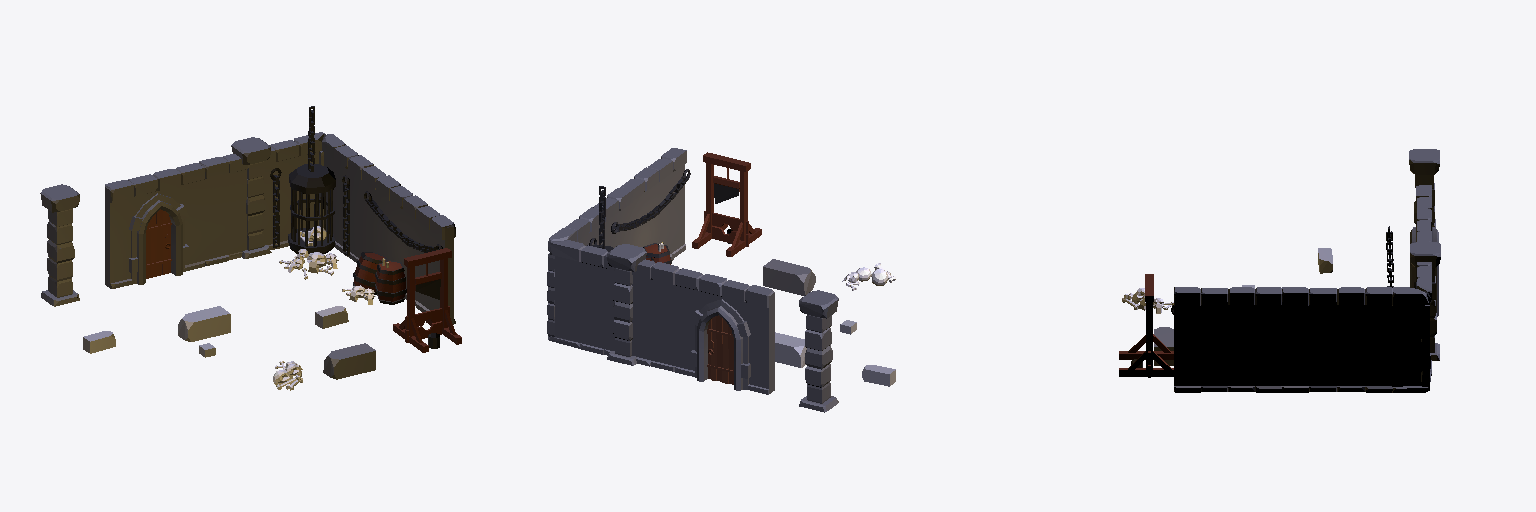
3 renders of one model, left to right at view 1: azimuth 30°, elevation 25°; view 2: azimuth 150°, elevation 25°; view 3: azimuth 270°, elevation 25°, orthographic.
Parts seen in each view (by area): view 1: Wall5_Untitled.020; view 2: Wall5_Untitled.020; view 3: Wall5_Untitled.020.
Part boxes in pixels (x1,y1,x2,y2): Wall5_Untitled.020: (40, 106, 461, 390); Wall5_Untitled.020: (547, 148, 895, 412); Wall5_Untitled.020: (1119, 149, 1440, 392).
Size of the model in its own units: 7.82 by 4.16 by 7.39.
Materials: 1 (1 with a texture image).